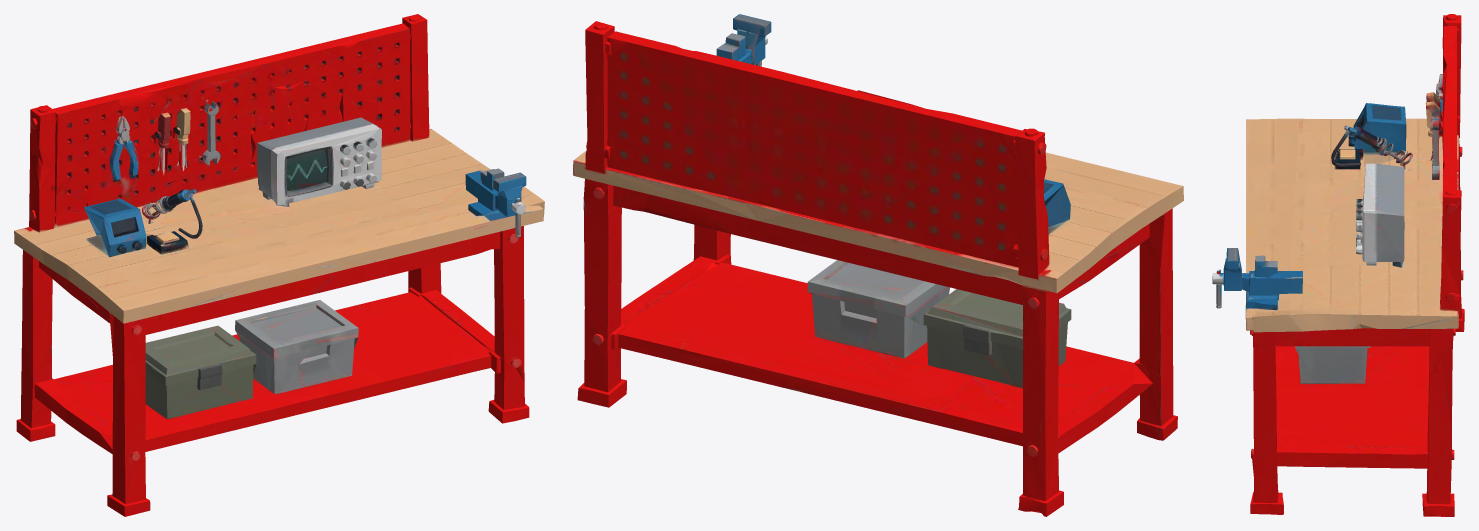
File: workbench.glb
The picture shows the model from 3 angles, left to right: view 1: azimuth 30°, elevation 25°; view 2: azimuth 150°, elevation 25°; view 3: azimuth 270°, elevation 25°; orthographic projection. The views are drawn at different scales.
Bounding box in the file's own units: 1.9 × 1.4 × 1.01.
1 material, 1 textured.
